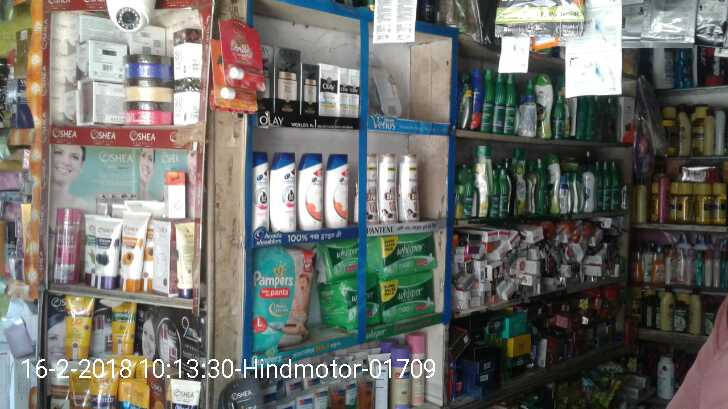venus: (369, 59, 404, 117)
